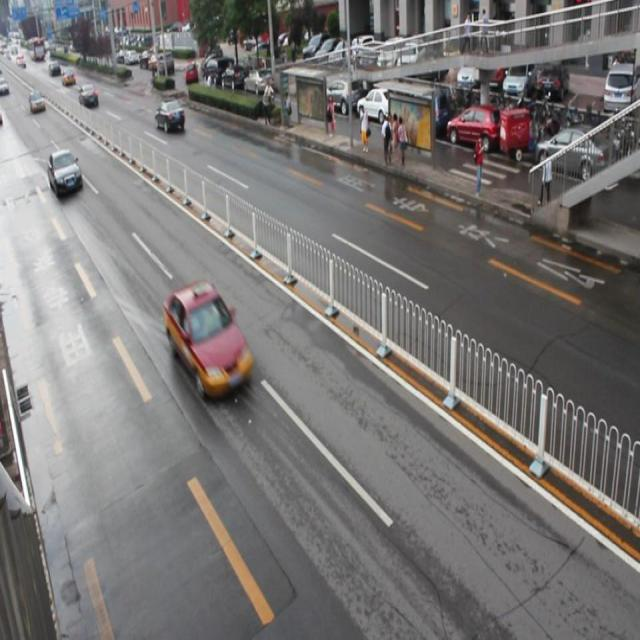car: (164, 280, 251, 398), (48, 148, 82, 196), (154, 96, 185, 135)
